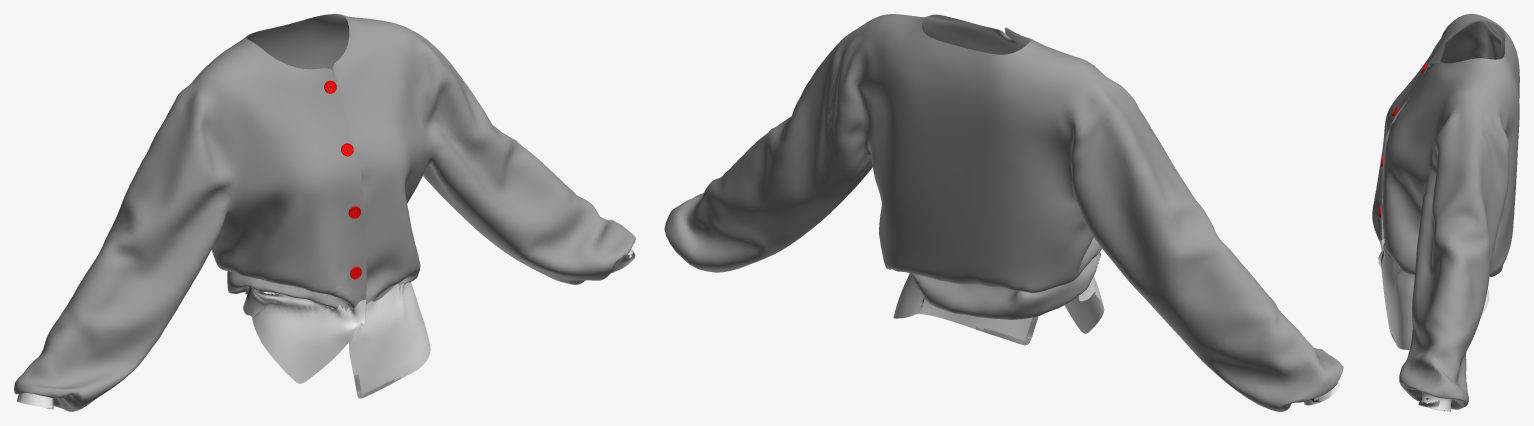
File: shirt_5.glb
3 renders of one model, left to right at view 1: azimuth 30°, elevation 25°; view 2: azimuth 150°, elevation 25°; view 3: azimuth 270°, elevation 25°, orthographic. The views are drawn at different scales.
Parts seen in each view (by area): view 1: Gothic blouse_top_0; view 2: Gothic blouse_top_0; view 3: Gothic blouse_top_0.
Boxes of the visible parts, bbox=[...] form: Gothic blouse_top_0: bbox=[14, 14, 635, 411]; Gothic blouse_top_0: bbox=[664, 14, 1343, 411]; Gothic blouse_top_0: bbox=[1372, 14, 1519, 411].
Size of the model in its own units: 1.09 by 0.567 by 0.2636.
Materials: 4 (2 with a texture image).
